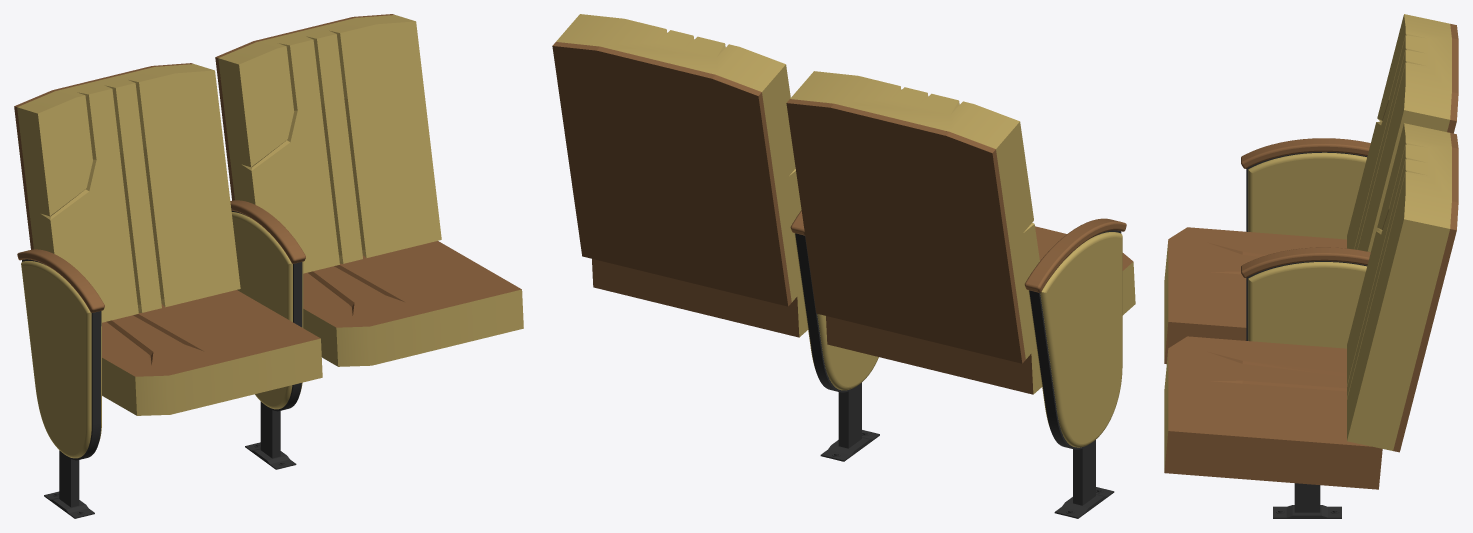
Rendered from armchair.FBX.
3 views of the same model, side by side, from view 1: azimuth 30°, elevation 25°; view 2: azimuth 150°, elevation 25°; view 3: azimuth 270°, elevation 25° (orthographic). The views are drawn at different scales.
Parts seen in each view (by area): view 1: Box04, Box01, Box03, Box05, Форма01, Форма05, Прямоугольник01, Форма02, Форма06, Прямоугольник13, Прямоугольник02, Прямоугольник12; view 2: Box01, Box04, Форма01, Box03, Box05, Форма05, Форма02, Прямоугольник01, Прямоугольник12, Прямоугольник13, Прямоугольник02; view 3: Box05, Box04, Box01, Box03, Форма07, Форма03, Форма06, Форма02, Прямоугольник13, Прямоугольник15, Прямоугольник12, Прямоугольник01.
Part boxes in pixels (x1,y1,x2,y2): Box04: (215,14,441,273); Box01: (14,63,240,322); Box03: (102,290,322,415); Box05: (303,241,523,366); Форма01: (21,261,91,458); Форма05: (231,212,292,409); Прямоугольник01: (22,259,101,460); Форма02: (17,249,104,310); Форма06: (230,200,305,261); Прямоугольник13: (260,401,280,458); Прямоугольник02: (59,450,79,507); Прямоугольник12: (231,210,302,411); Box01: (786,71,1039,363); Box04: (552,14,802,306); Форма01: (1040,232,1122,447); Box03: (826,226,1135,394); Box05: (592,259,807,337); Форма05: (817,314,878,390); Форма02: (1025,218,1126,290); Прямоугольник01: (1029,230,1121,449); Прямоугольник12: (795,233,859,392); Прямоугольник13: (838,383,861,448); Прямоугольник02: (1073,440,1095,505); Box05: (1164,336,1382,489); Box04: (1347,123,1458,452); Box01: (1347,14,1458,252); Box03: (1164,227,1346,363); Форма07: (1248,262,1366,348); Форма03: (1248,152,1366,239); Форма06: (1242,247,1370,277); Форма02: (1242,138,1370,168); Прямоугольник13: (1294,483,1320,512); Прямоугольник15: (1273,505,1341,518); Прямоугольник12: (1246,261,1367,340); Прямоугольник01: (1246,152,1367,231).
Bounding box in the file's own units: 1193 × 1034 × 683.
